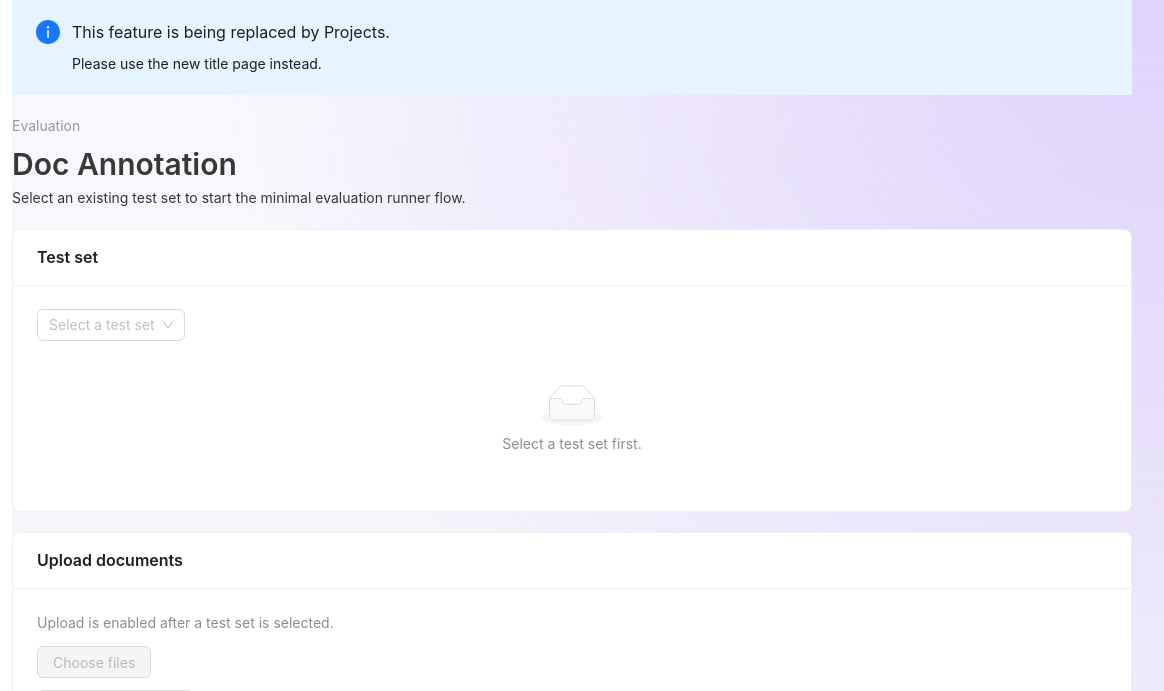
DocAnnotationPage › does not show a late test-set response after the workspace generation changes
Press the mouse on the dropdown named "Test set selector" at (102, 325), box [49, 316, 155, 333]
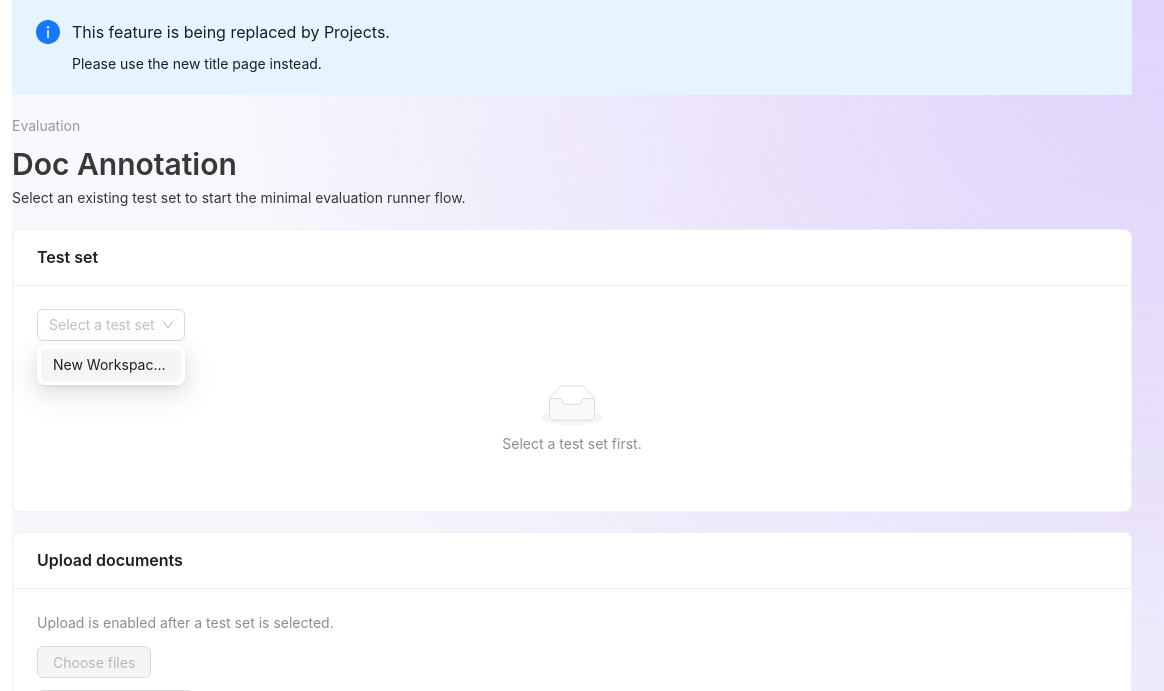
Expected: the text "New Workspace Test Set" is shown, [53, 354, 169, 376]
